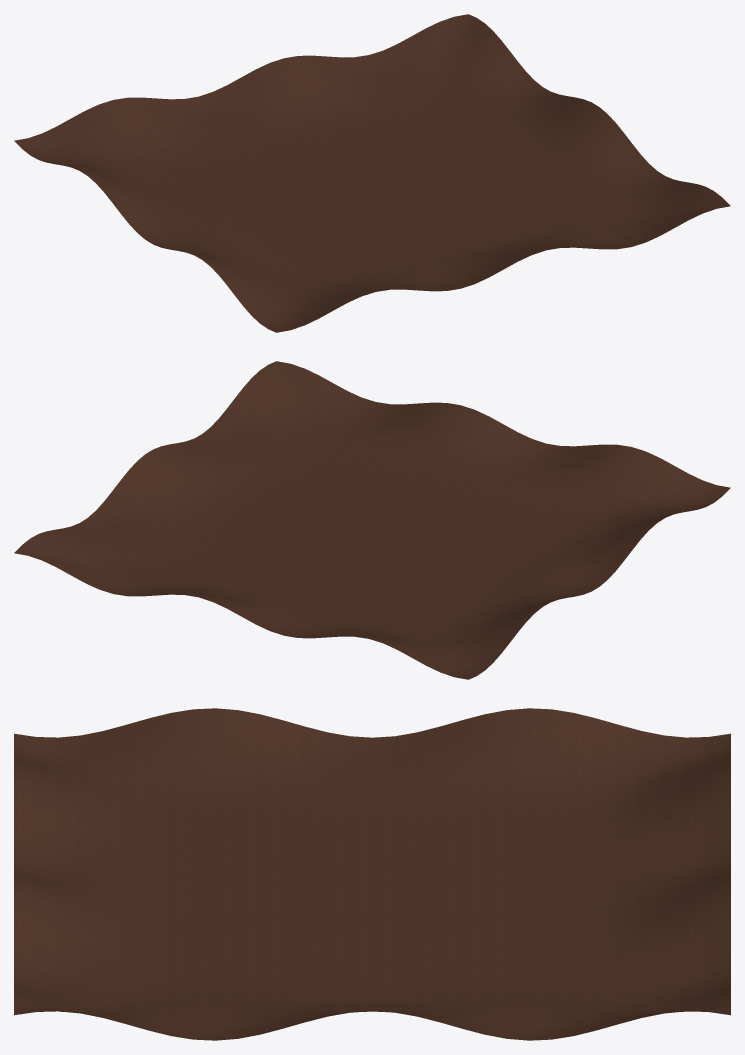
The model's file is Ground_Exterior_Far.fbx.
3 views of the same model, one above another, from view 1: azimuth 30°, elevation 25°; view 2: azimuth 150°, elevation 25°; view 3: azimuth 270°, elevation 25° (orthographic). The views are drawn at different scales.
Visible parts, largest first — view 1: Ground_Exterior_Far_Mesh; view 2: Ground_Exterior_Far_Mesh; view 3: Ground_Exterior_Far_Mesh.
Part boxes in pixels (<box>): Ground_Exterior_Far_Mesh: <box>14,14,730,332</box>; Ground_Exterior_Far_Mesh: <box>14,361,730,679</box>; Ground_Exterior_Far_Mesh: <box>14,708,730,1040</box>.
Bounding box in the file's own units: 128 × 7.75 × 128.
1 material, 1 textured.
